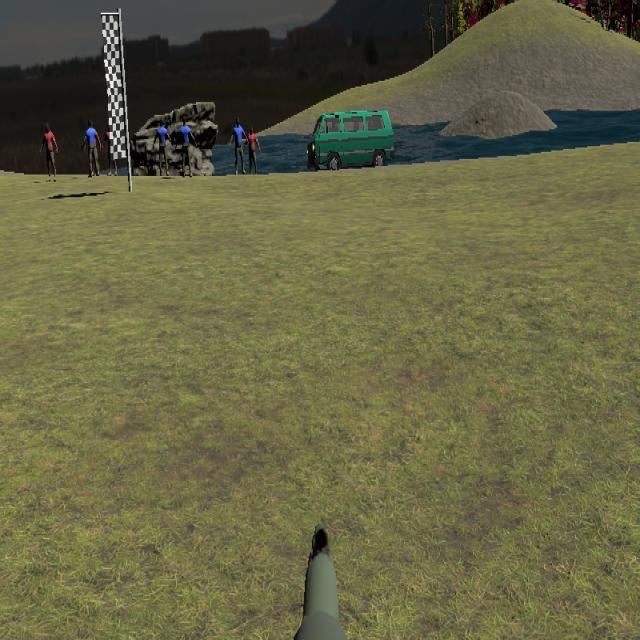Human: (175, 116, 198, 178), (152, 120, 174, 177), (229, 116, 249, 176), (82, 119, 101, 178), (40, 123, 58, 182), (244, 124, 261, 179)
car: (306, 110, 394, 173)
